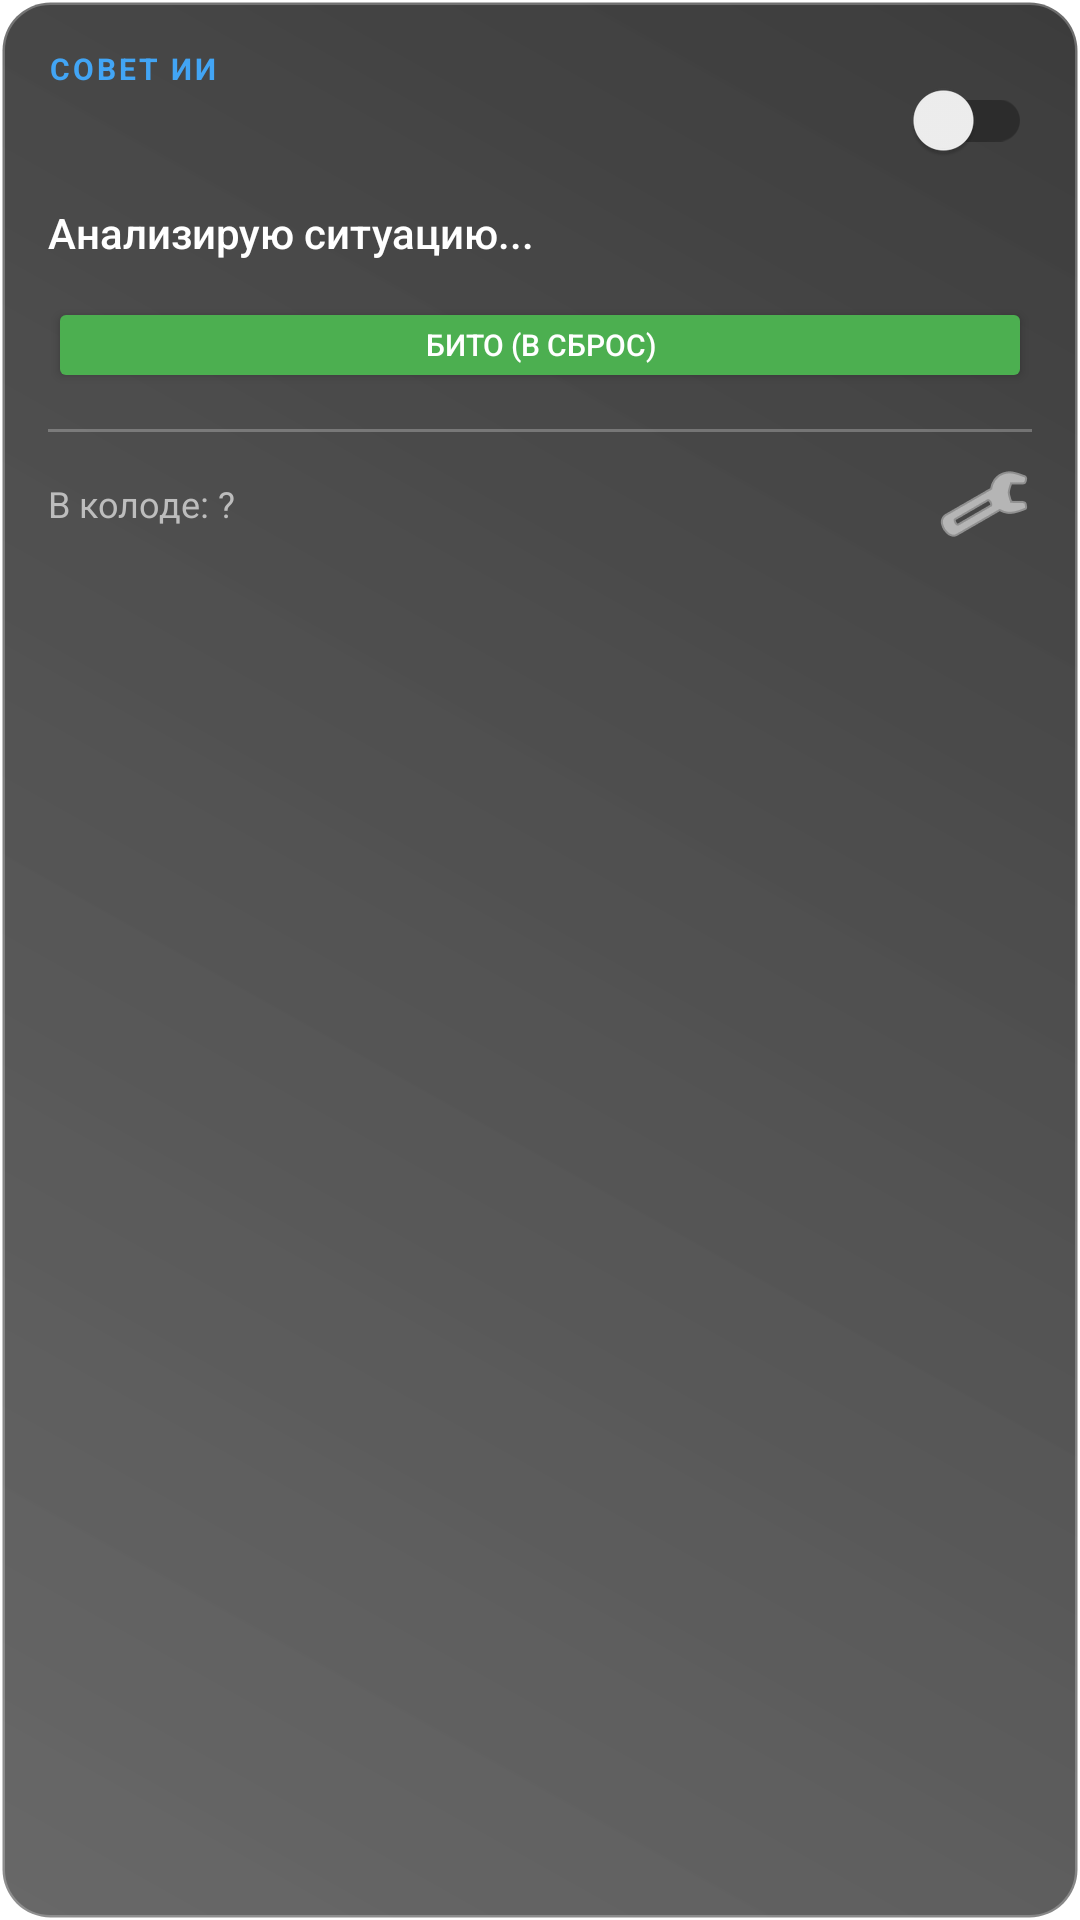

Screen size 1080*1920. Icon name, then its center in pixels as (x,y):
Настройки: (984,504)
